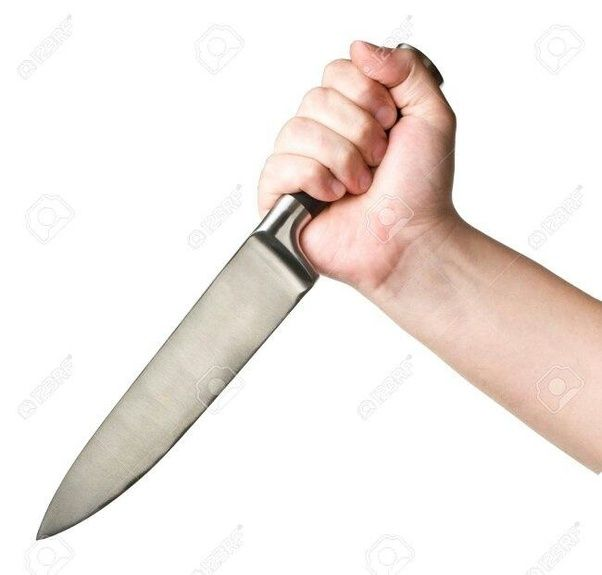knife: (30, 94, 406, 548)
